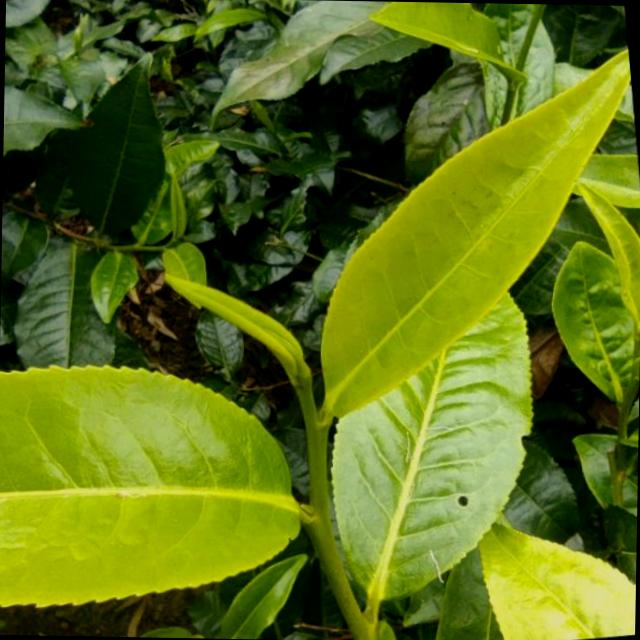Stem: (307, 425, 328, 449)
